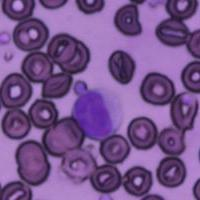M: (72, 86, 123, 142)
